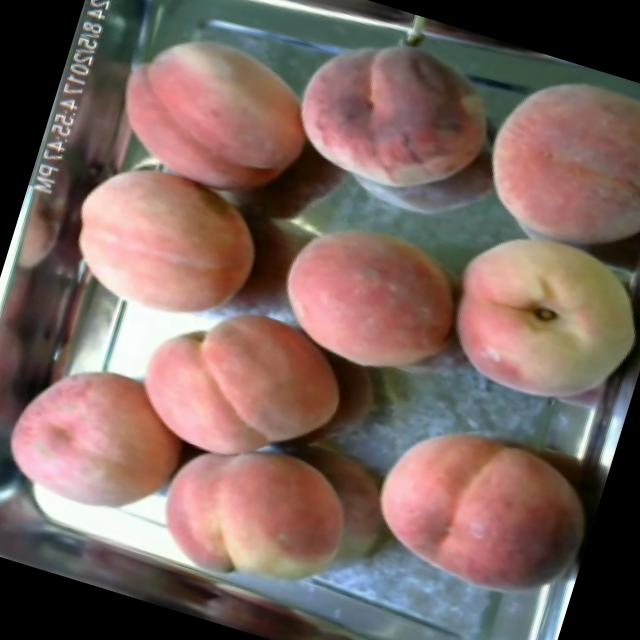Fruit: (346, 392, 610, 628), (265, 0, 531, 234), (113, 277, 370, 499), (128, 400, 380, 622), (254, 190, 493, 408), (413, 209, 640, 437), (42, 142, 281, 352), (96, 9, 334, 216), (447, 41, 640, 278), (0, 335, 210, 544)
